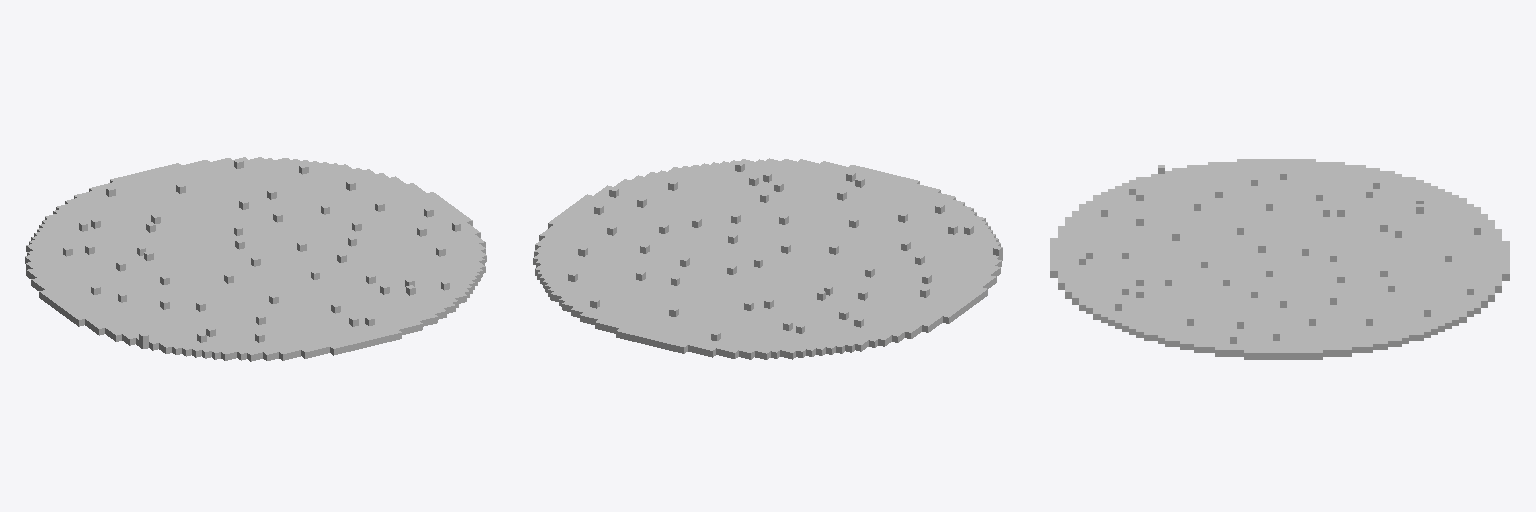
The model's file is desert_ground.obj.
3 renders of one model, left to right at view 1: azimuth 30°, elevation 25°; view 2: azimuth 150°, elevation 25°; view 3: azimuth 270°, elevation 25°, orthographic.
Size of the model in its own units: 64 by 2 by 64.